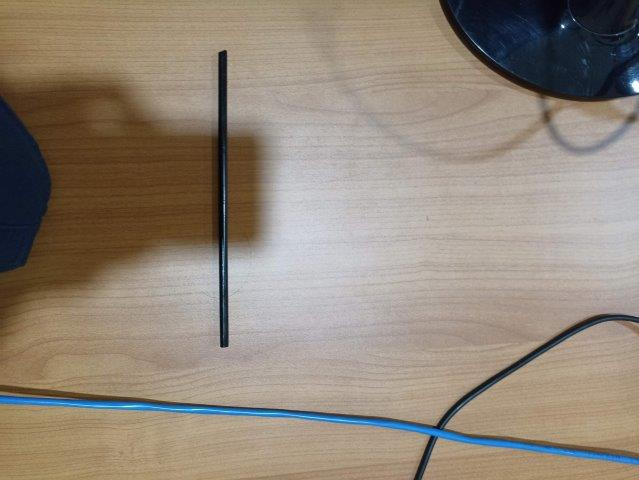sedotan: (218, 50, 230, 348)
